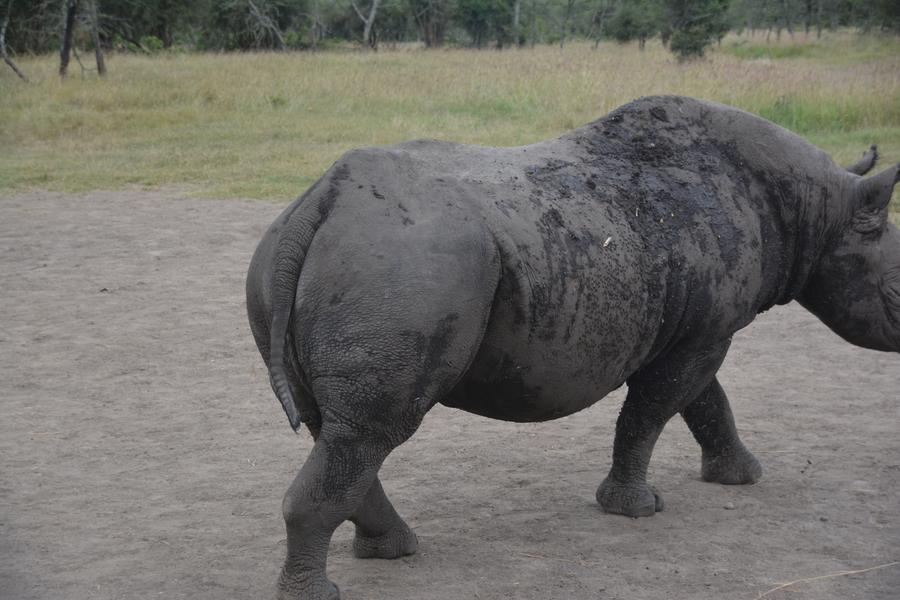rhino: (275, 90, 887, 549)
